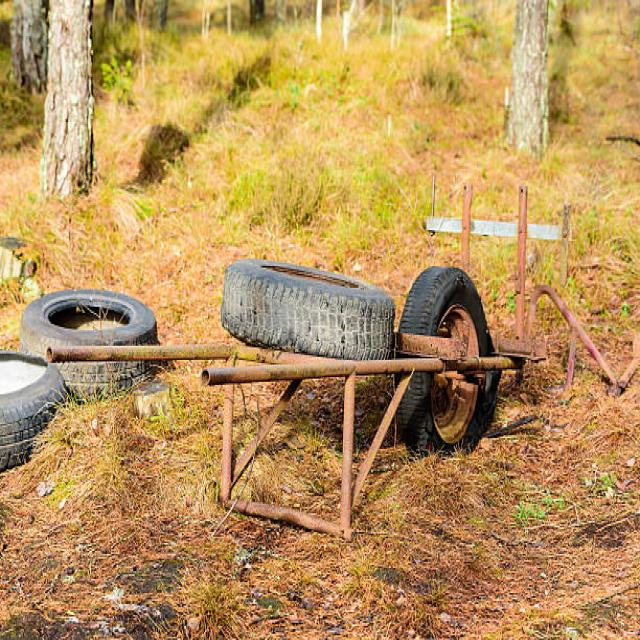tire: (394, 264, 499, 456), (220, 257, 395, 360), (18, 286, 159, 399), (395, 362, 499, 456)
